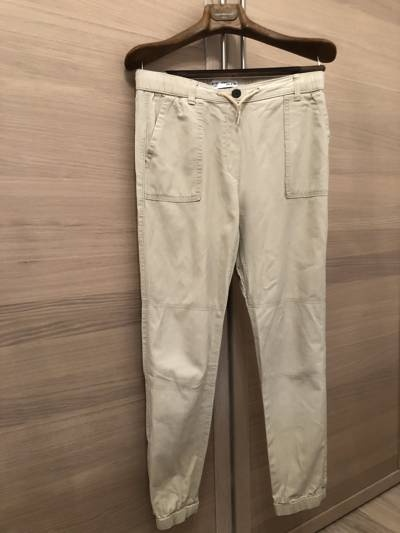Pants: (108, 33, 362, 518)
